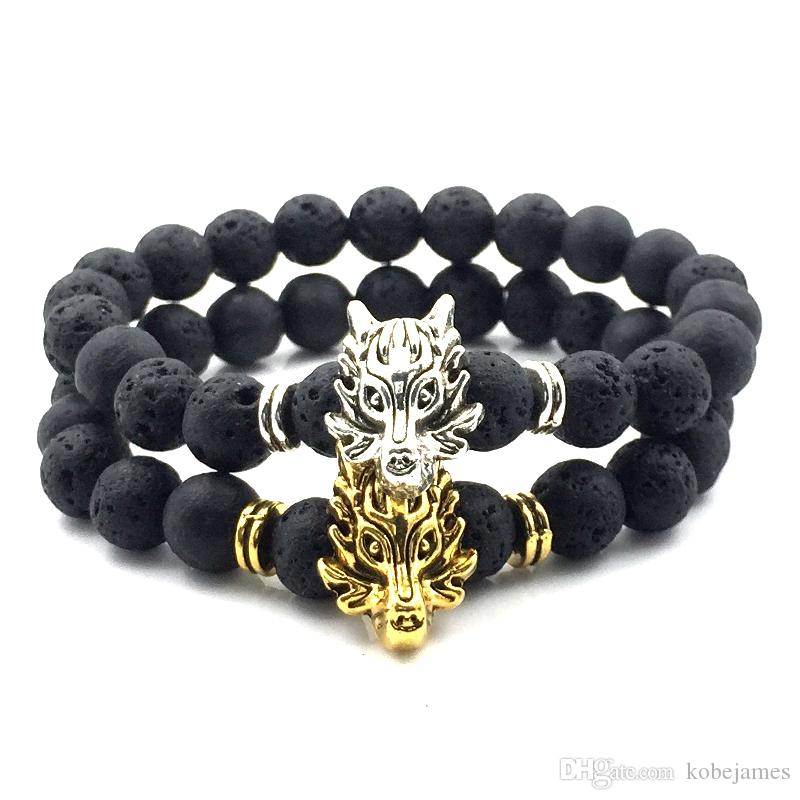volcanic_rock: (38, 432, 180, 526), (42, 274, 138, 379), (615, 337, 715, 428), (103, 354, 192, 451), (177, 374, 259, 475)
